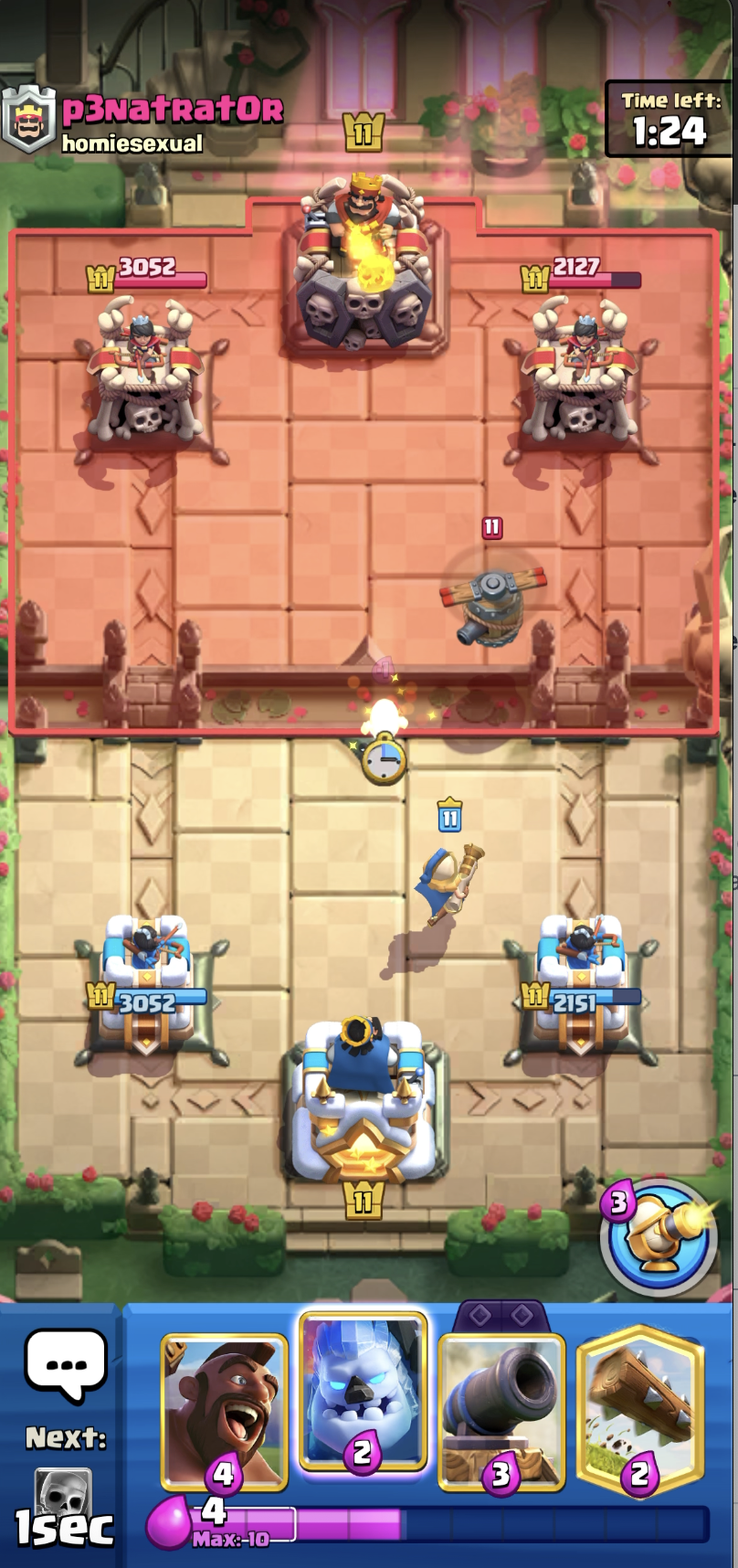flying-machine: (432, 512, 556, 664)
